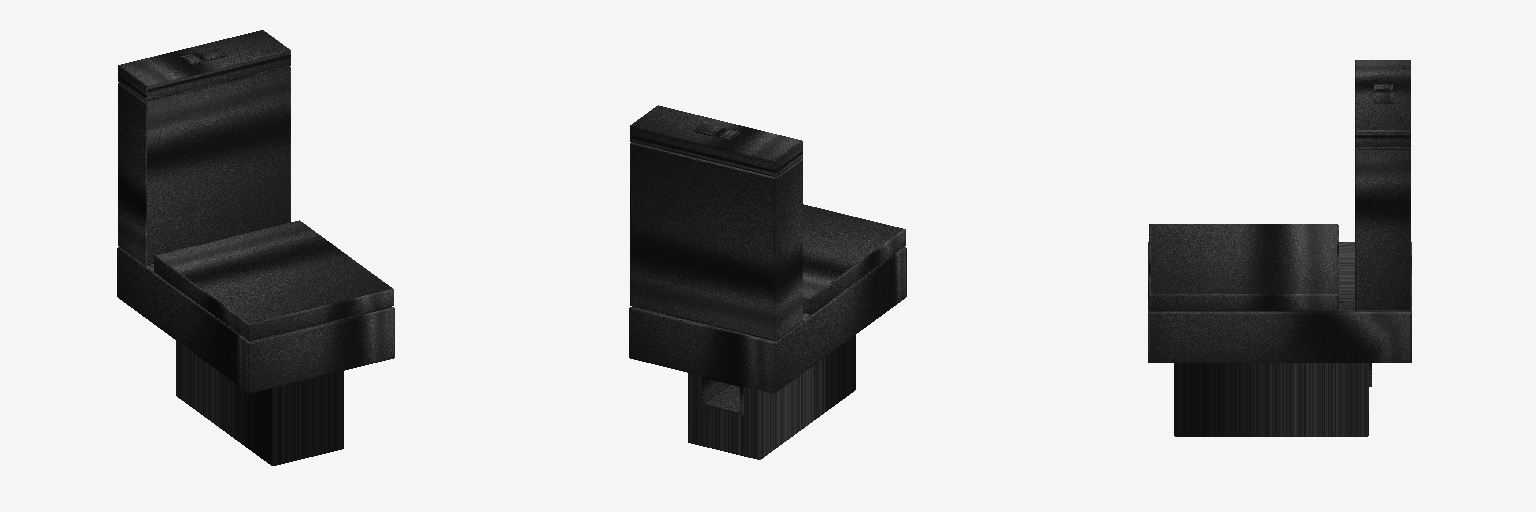
The picture shows the model from 3 angles: view 1: azimuth 30°, elevation 25°; view 2: azimuth 150°, elevation 25°; view 3: azimuth 270°, elevation 25°; orthographic projection.
Visible parts, largest first — view 1: Object003; view 2: Object003; view 3: Object003.
Part boxes in pixels (x1,y1,x2,y2): Object003: (117,30,394,465); Object003: (629,105,906,459); Object003: (1148,60,1411,436).
Size of the model in its own units: 9.13 by 19.37 by 14.22.
1 materials, 1 textured.